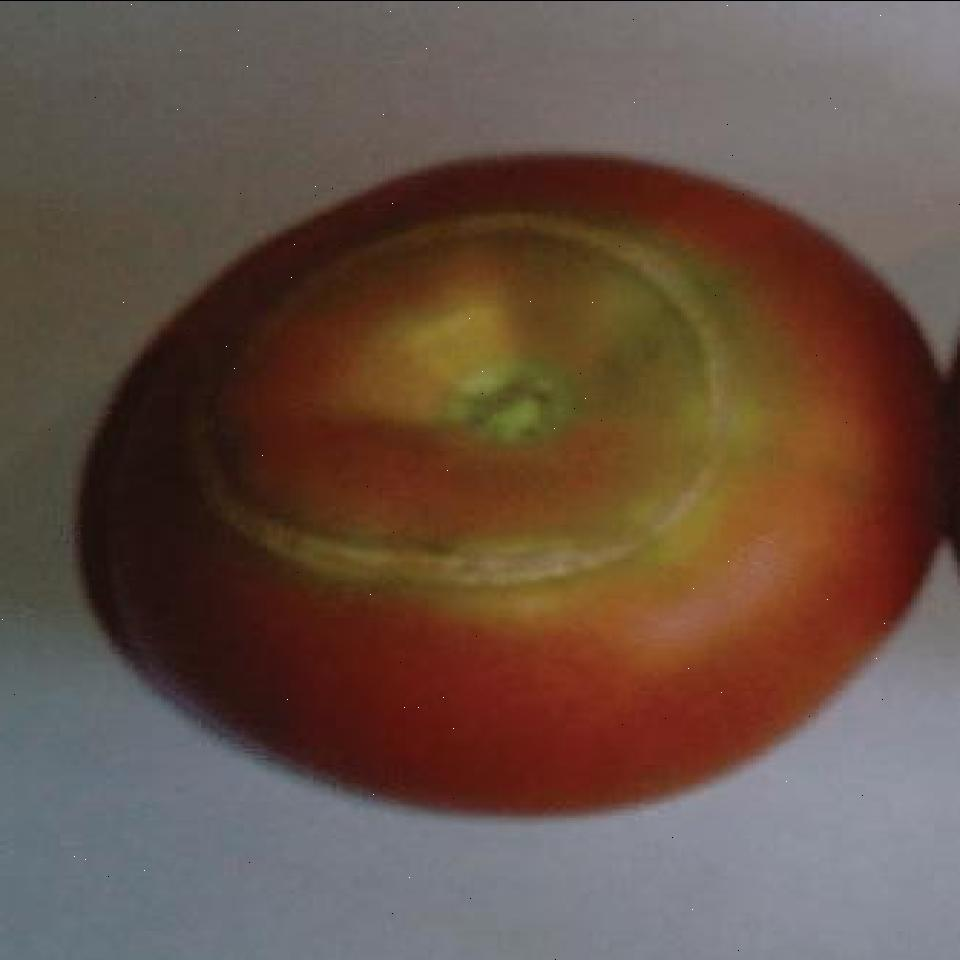Cracking: (154, 207, 754, 592)
